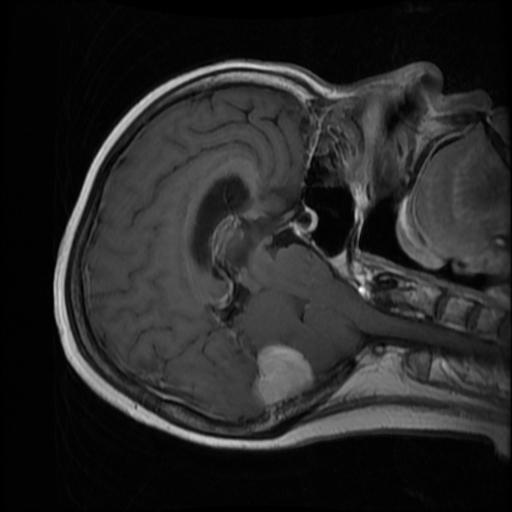meningioma: (251, 346, 312, 406)
